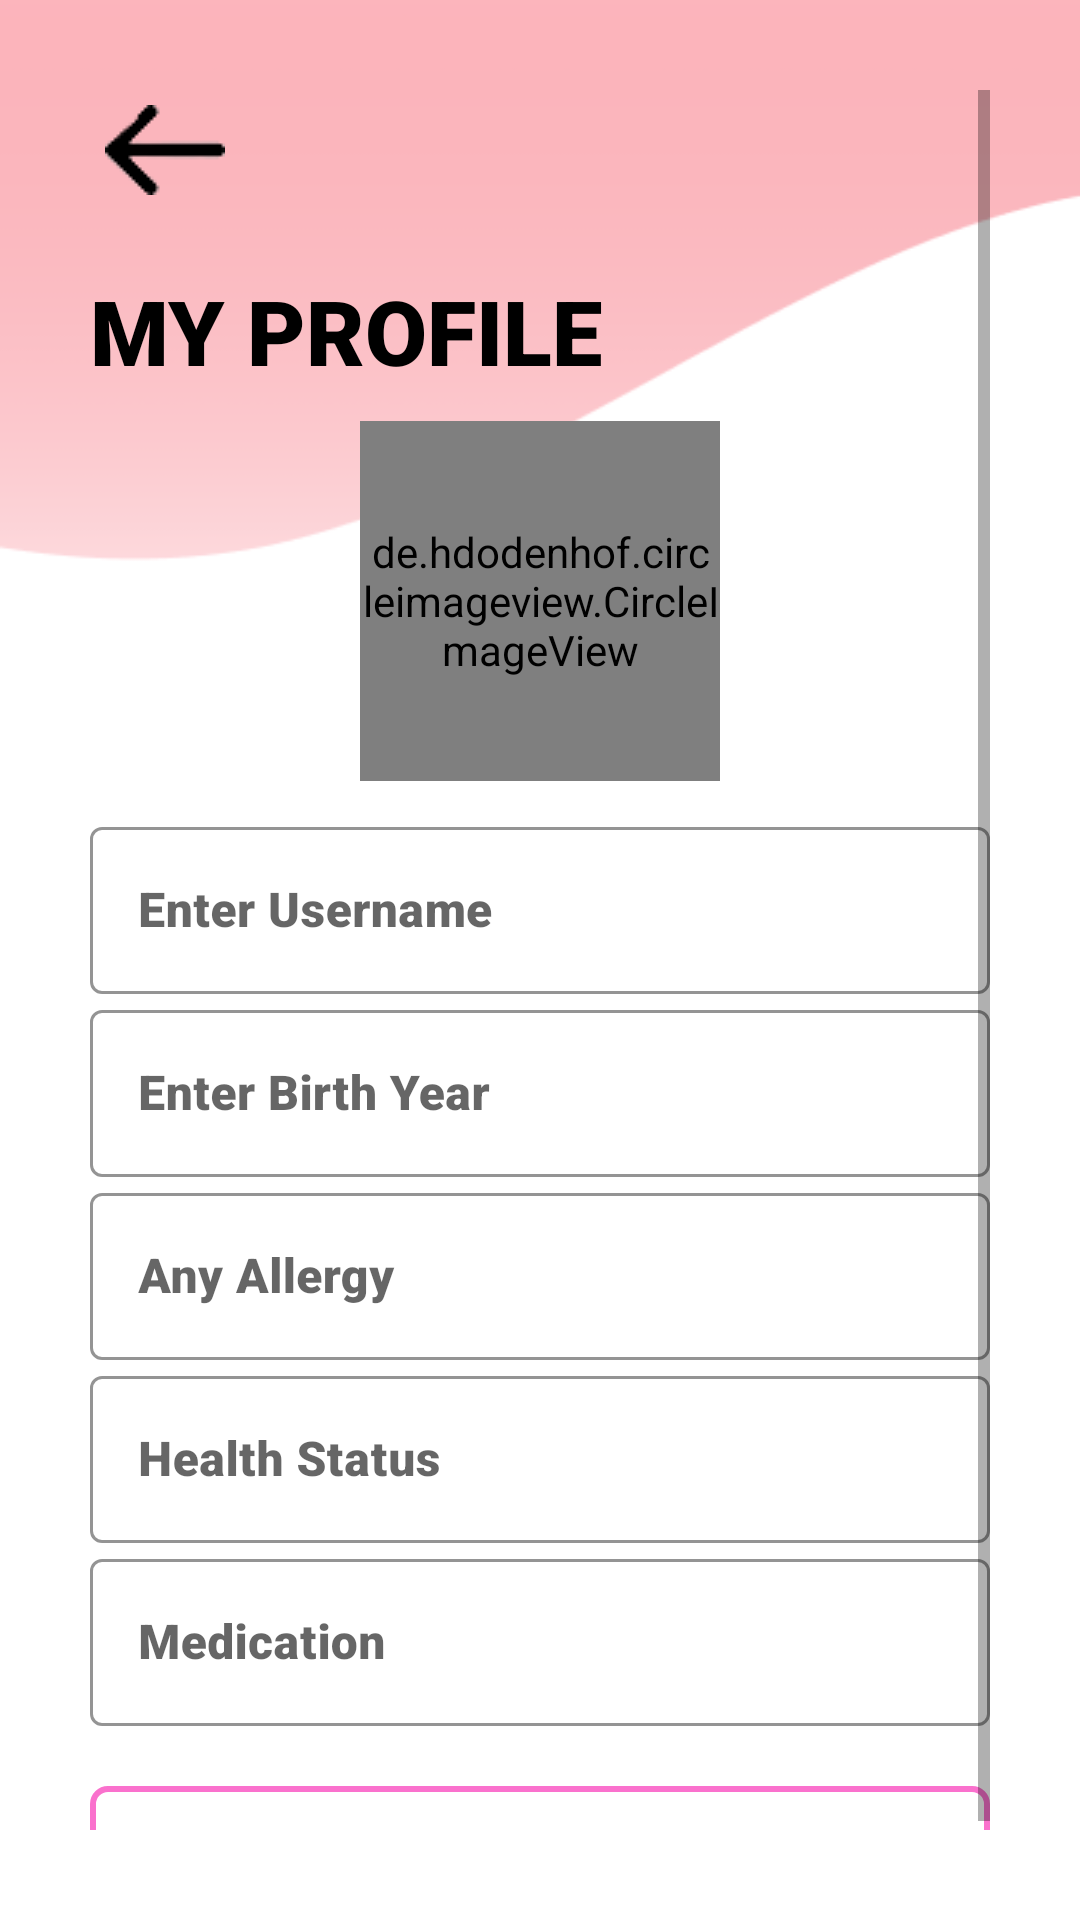

Locate icon controls on the screen. Image size 1080*1920, boxes as (x1, y1, x2, y2).
back: (105, 105, 225, 195)
